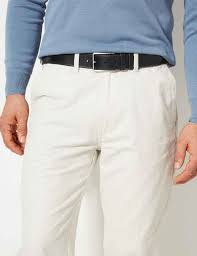F_belt: (28, 41, 184, 82)
